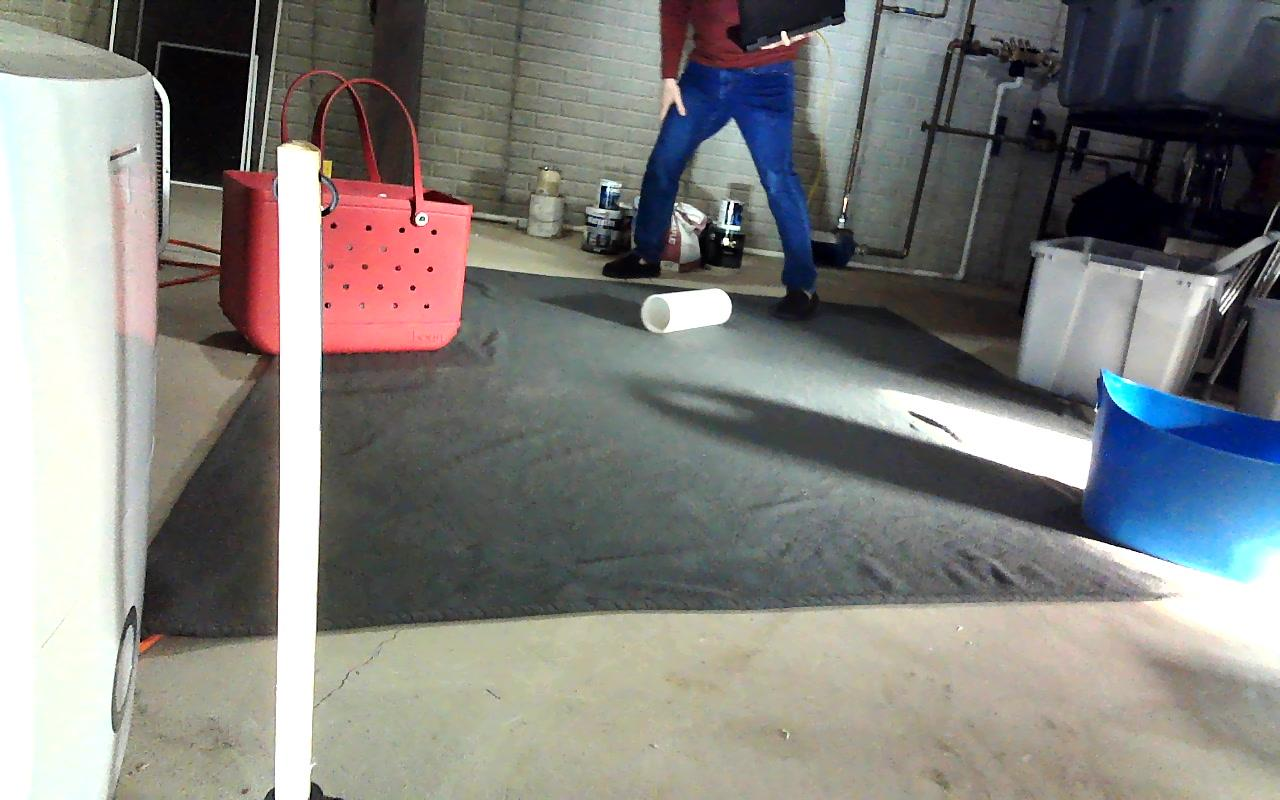coral: (643, 289, 731, 332)
